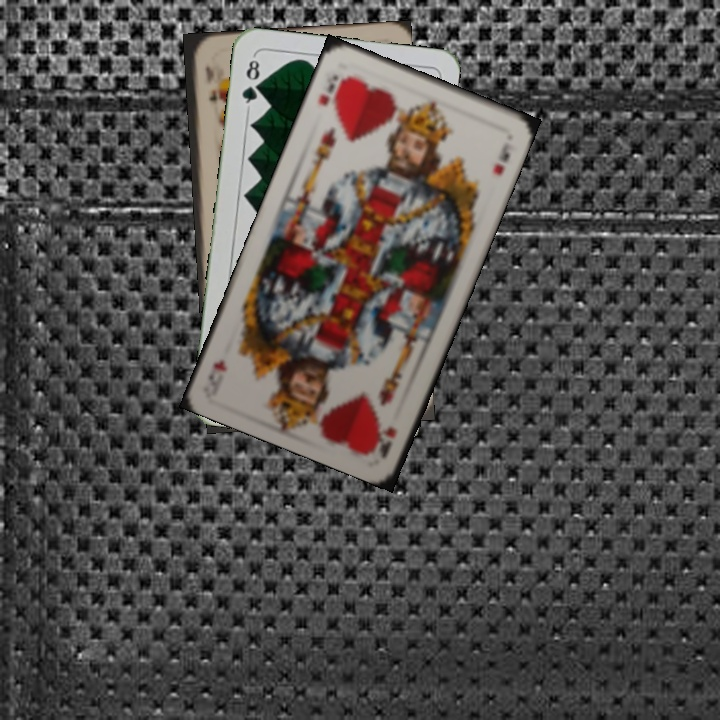E10: (202, 61, 220, 104)
G8: (237, 52, 263, 111)
HK: (314, 71, 348, 114), (369, 422, 399, 461)
